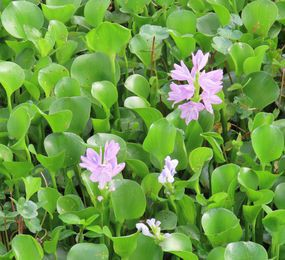water_hyacinth: (0, 43, 285, 260)
